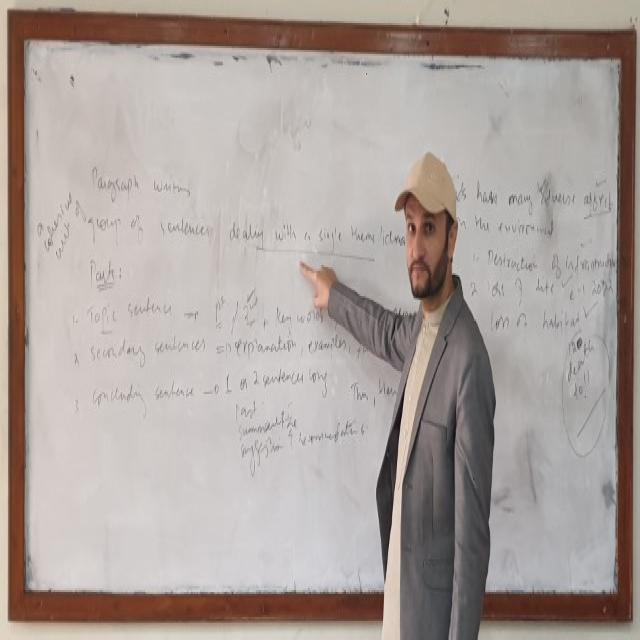Instructor: (373, 140, 494, 640)
White-board: (15, 18, 627, 607)
